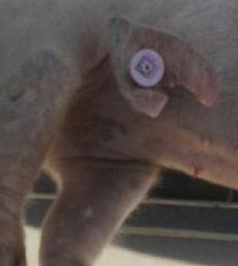text: (121, 37, 173, 95)
